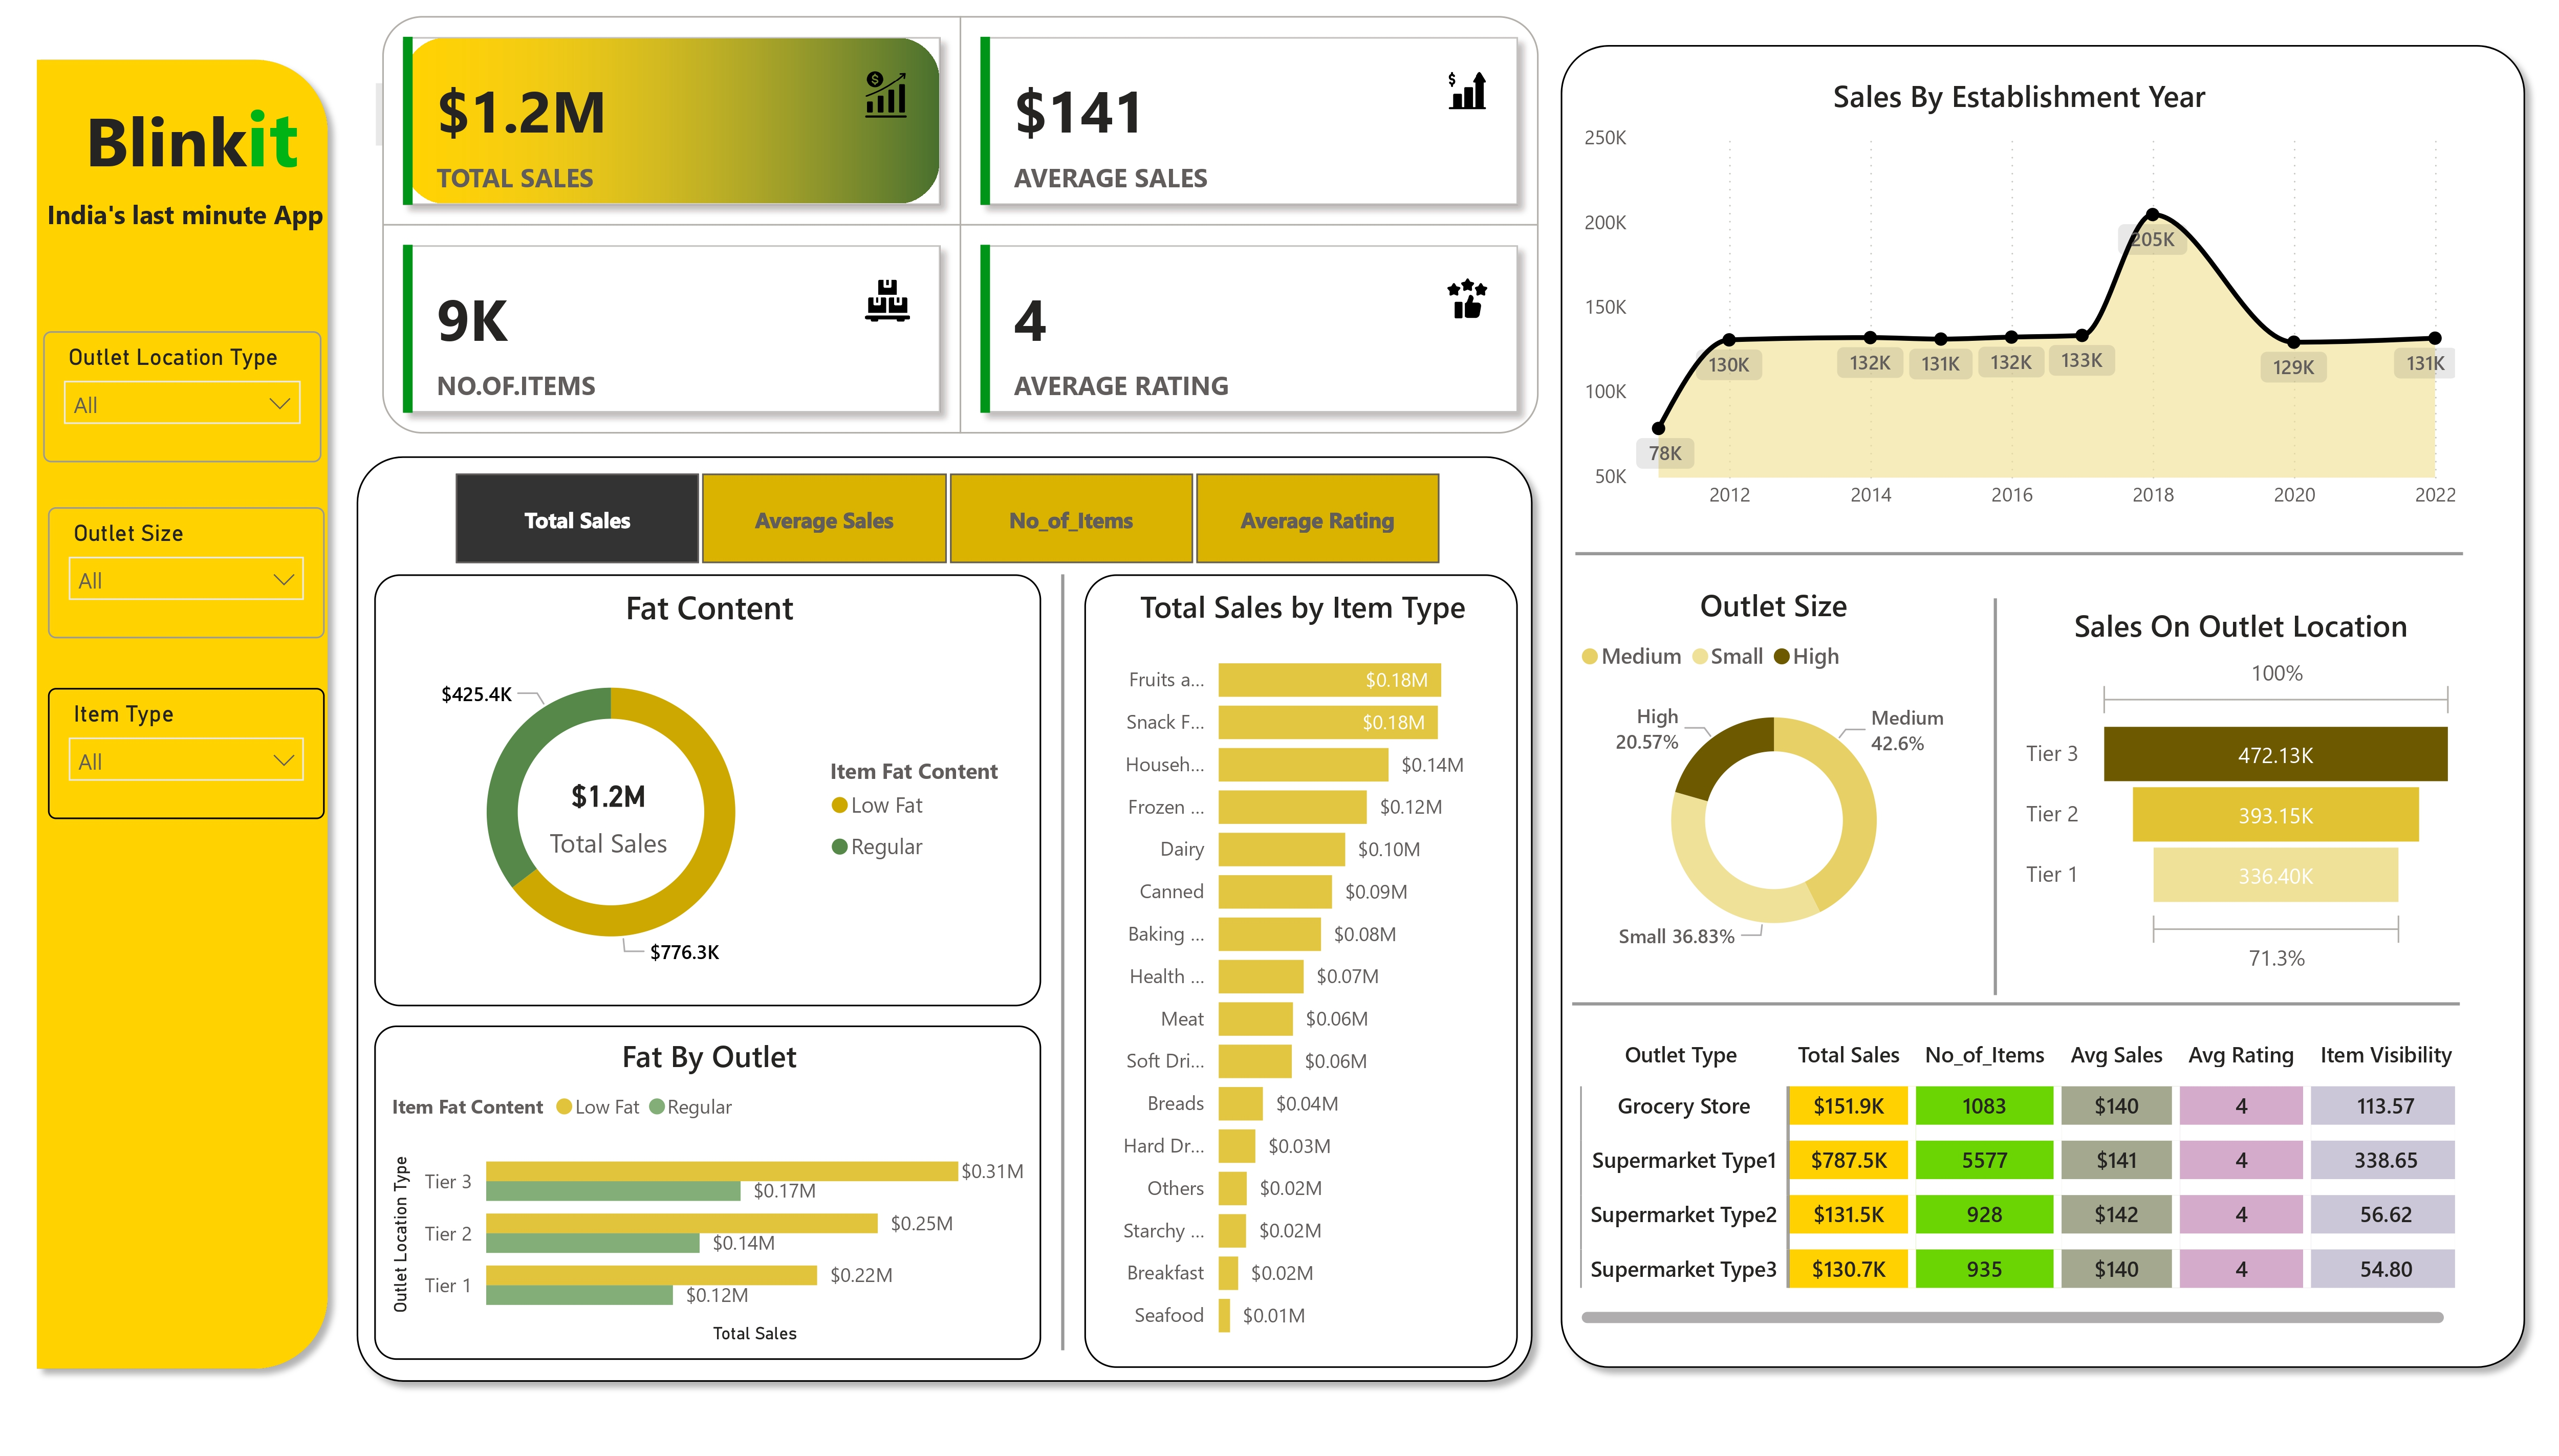

The dashboard page shown, as its layout file describes it:
{"tool":"powerbi","page":{"name":"Page 1","canvas":[1600,900],"ordinal":0},"visuals":[{"type":"shape","box":[14.2,22.7,199.9,836.5],"z":0},{"type":"textbox","box":[0,41.8,247.6,65.9],"z":1000},{"type":"textbox","box":[9,113.3,213.9,44.9],"z":2000},{"type":"cardVisual","fields":{"Data":["BlinkIT Grocery Data.Total Sales","BlinkIT Grocery Data.Average Sales","BlinkIT Grocery Data.No_of_Items","BlinkIT Grocery Data.Average Rating"]},"box":[233.7,0,733.4,271.4],"z":3000},{"type":"shape","box":[213.9,271.4,753.2,596.8],"z":4000},{"type":"donutChart","title":"Fat Content","fields":{"Y":["BlinkIT Grocery Data.Total Sales"],"Category":["BlinkIT Grocery Data.Item Fat Content"]},"box":[233.7,354.1,417.1,269.6],"z":5000},{"type":"slicer","fields":{"Values":["Metrics.Metrics"]},"box":[258.9,284,665.1,70.1],"z":6000},{"type":"cardVisual","fields":{"Data":["BlinkIT Grocery Data.Total Sales"]},"box":[303.4,465,156,76.6],"z":7000},{"type":"clusteredBarChart","title":"Fat By Outlet ","fields":{"Y":["BlinkIT Grocery Data.Total Sales"],"Category":["BlinkIT Grocery Data.Outlet Location Type"],"Series":["BlinkIT Grocery Data.Item Fat Content"]},"box":[233.7,636.4,417.1,208.5],"z":8000},{"type":"shape","box":[650.8,354.1,27,485.4],"z":9000},{"type":"barChart","fields":{"Y":["BlinkIT Grocery Data.Total Sales"],"Category":["BlinkIT Grocery Data.Item Type"]},"box":[677.7,354.1,271.4,496.2],"z":10000},{"type":"shape","box":[966.9,14.2,621,845],"z":11000},{"type":"stackedAreaChart","title":"Sales By Establishment Year","fields":{"Category":["BlinkIT Grocery Data.Outlet Establishment Year"],"Y":["Sum(BlinkIT Grocery Data.Sales)"]},"box":[984.8,41.5,555.5,280.1],"z":12000},{"type":"shape","box":[984.8,327.8,555.5,26.2],"z":13000},{"type":"donutChart","title":"Outlet Size","fields":{"Category":["BlinkIT Grocery Data.Outlet Size"],"Y":["CountNonNull(BlinkIT Grocery Data.Outlet Size)"]},"box":[983.3,355.5,252.4,246.2],"z":14000},{"type":"shape","box":[983.3,609.4,555.5,27],"z":15000},{"type":"shape","box":[1235,368.5,25.2,248.1],"z":16000},{"type":"funnel","title":"Sales On Outlet Location","fields":{"Category":["BlinkIT Grocery Data.Outlet Location Type"],"Y":["Sum(BlinkIT Grocery Data.Sales)"]},"box":[1261.8,367.8,278.5,241.6],"z":17000},{"type":"pivotTable","fields":{"Rows":["BlinkIT Grocery Data.Outlet Type"],"Values":["BlinkIT Grocery Data.Total Sales","BlinkIT Grocery Data.No_of_Items","BlinkIT Grocery Data.Average Sales","BlinkIT Grocery Data.Average Rating","Sum(BlinkIT Grocery Data.Item Visibility)"]},"box":[983.3,637.1,557,190.8],"z":18000},{"type":"slicer","fields":{"Values":["BlinkIT Grocery Data.Outlet Location Type"]},"box":[26.8,202,173.6,82.1],"z":18001},{"type":"slicer","fields":{"Values":["BlinkIT Grocery Data.Outlet Size"]},"box":[30,311.7,173.3,81.7],"z":18002},{"type":"slicer","fields":{"Values":["BlinkIT Grocery Data.Item Type"]},"box":[30,425,173.3,81.7],"z":18003}]}

Visuals, with their boxes in screenshot pixels (x1, y1, x2, y2), scaled from the page's 1600x900 canvas onto the 2559x1456 screenshot:
shape: 23/37/342/1390
textbox: 0/68/396/174
textbox: 14/183/357/256
cardVisual - BlinkIT Grocery Data.Total Sales x BlinkIT Grocery Data.Average Sales: 374/0/1547/439
shape: 342/439/1547/1404
"Fat Content" donutChart: 374/573/1041/1009
slicer - Metrics.Metrics: 414/460/1478/573
cardVisual - BlinkIT Grocery Data.Total Sales: 485/752/735/876
"Fat By Outlet " clusteredBarChart: 374/1030/1041/1367
shape: 1041/573/1084/1358
barChart - BlinkIT Grocery Data.Total Sales x BlinkIT Grocery Data.Item Type: 1084/573/1518/1376
shape: 1547/23/2540/1390
"Sales By Establishment Year" stackedAreaChart: 1575/67/2463/520
shape: 1575/530/2463/573
"Outlet Size" donutChart: 1573/575/1977/973
shape: 1573/986/2461/1030
shape: 1975/596/2015/997
"Sales On Outlet Location" funnel: 2018/595/2463/986
pivotTable - BlinkIT Grocery Data.Outlet Type x BlinkIT Grocery Data.Total Sales: 1573/1031/2463/1339
slicer - BlinkIT Grocery Data.Outlet Location Type: 43/327/320/460
slicer - BlinkIT Grocery Data.Outlet Size: 48/504/325/637
slicer - BlinkIT Grocery Data.Item Type: 48/687/325/820
